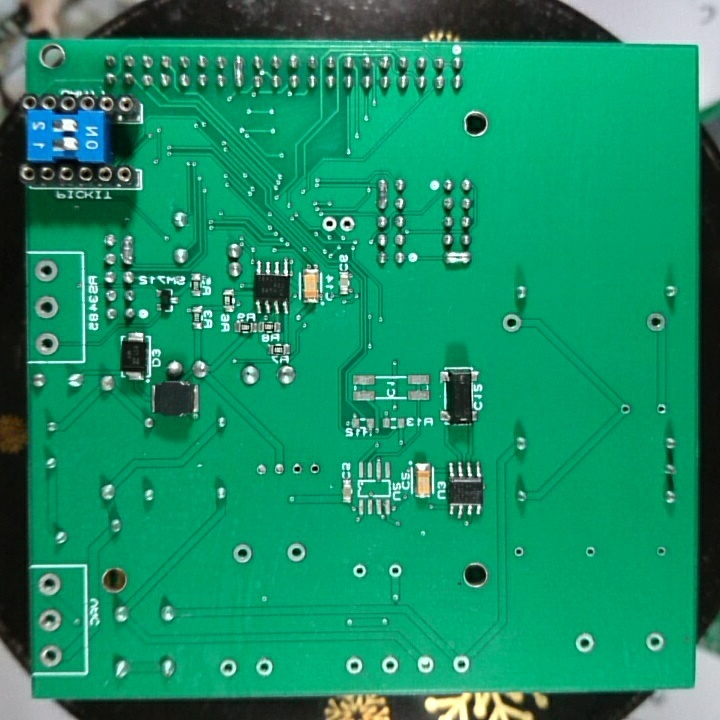F: (31, 292, 62, 322), (31, 256, 61, 286), (31, 331, 63, 358), (37, 606, 64, 635), (36, 569, 63, 598), (214, 655, 242, 682), (572, 629, 597, 658), (37, 643, 65, 668), (342, 652, 366, 679), (230, 541, 254, 567), (253, 655, 277, 680), (284, 540, 307, 566), (500, 312, 524, 336), (414, 651, 437, 676), (645, 309, 668, 333), (645, 632, 668, 656), (451, 652, 474, 676), (378, 652, 401, 676), (319, 213, 340, 236), (349, 559, 368, 583), (385, 559, 403, 584), (287, 460, 306, 481), (338, 213, 355, 235), (617, 400, 633, 420), (582, 543, 598, 563), (306, 460, 322, 480), (271, 460, 287, 480), (653, 542, 668, 563), (511, 542, 527, 561), (254, 460, 269, 480), (654, 401, 671, 418)
P: (441, 249, 474, 269), (120, 231, 137, 269), (231, 52, 246, 94), (374, 175, 391, 212)
